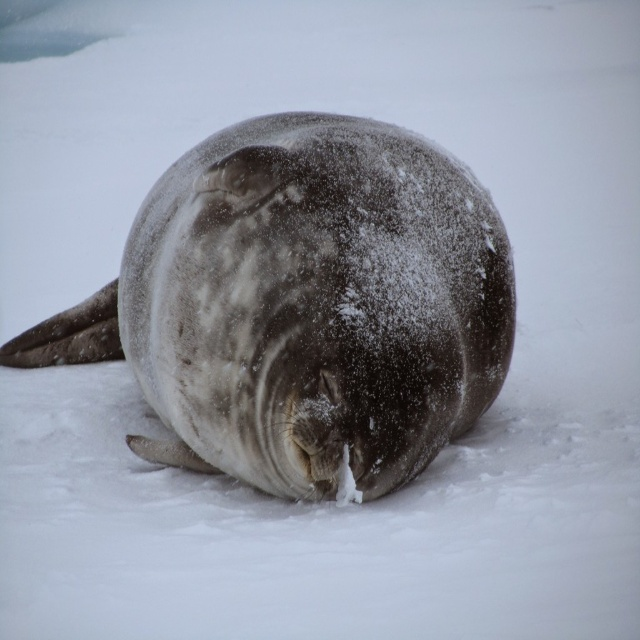Harbor seal: (36, 125, 539, 522)
